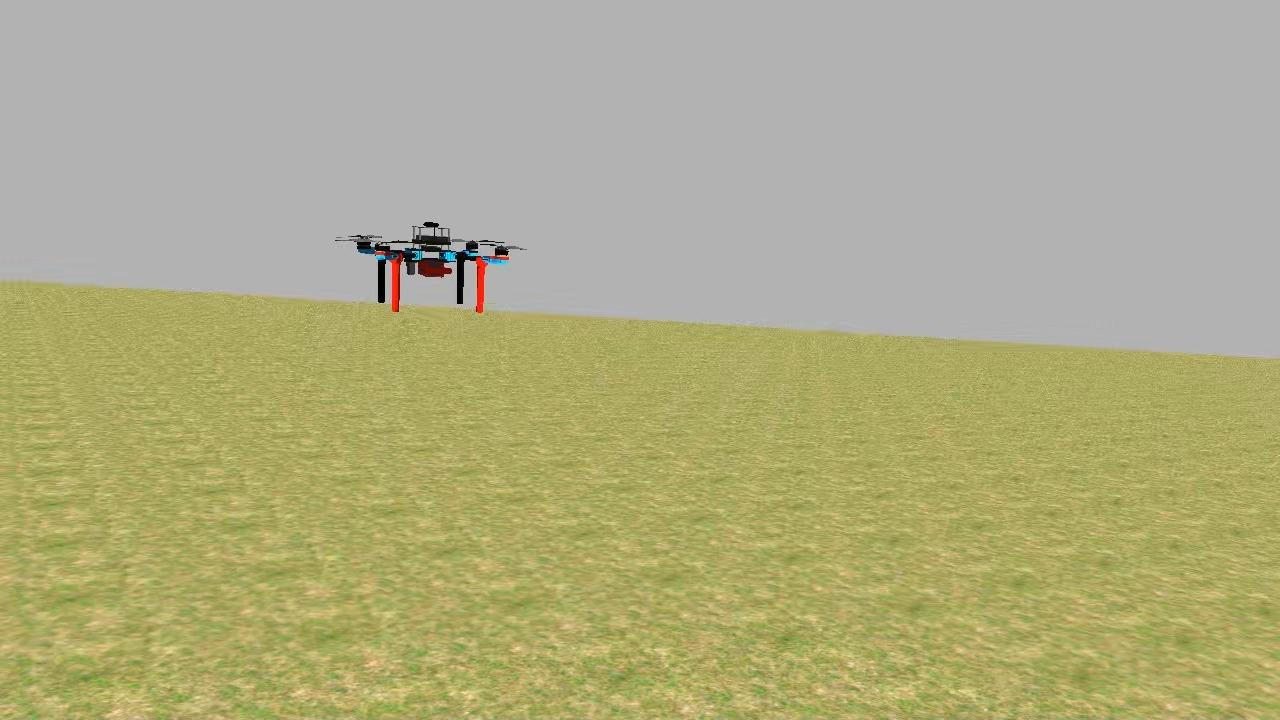UAV: (348, 214, 514, 318)
